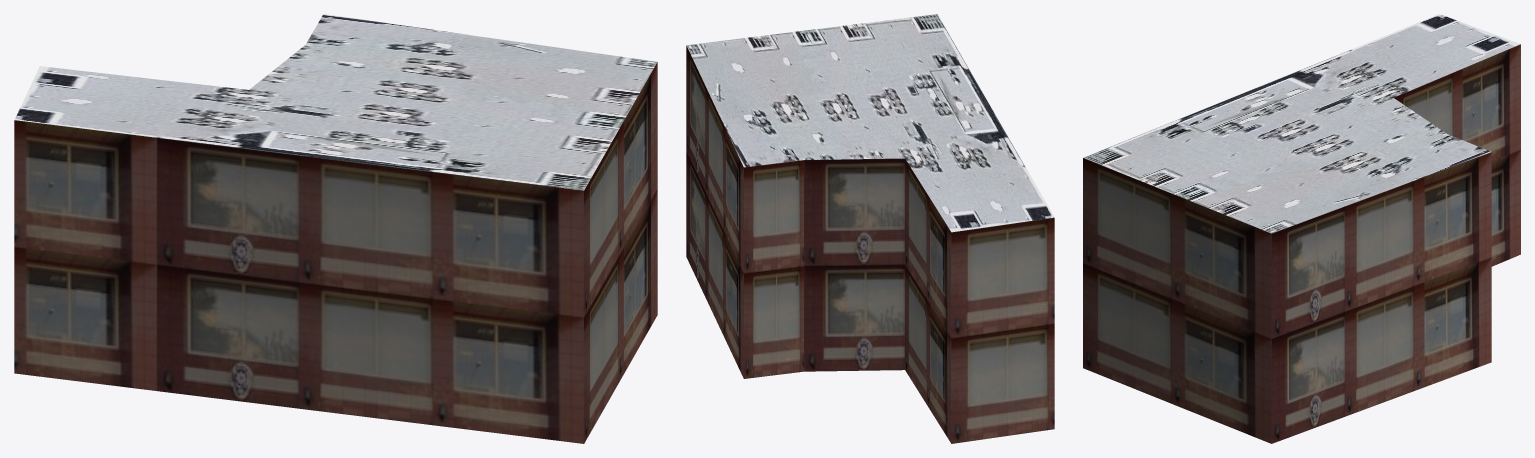
The model's file is ResTex__4140.fbx.
3 renders of one model, left to right at view 1: azimuth 30°, elevation 25°; view 2: azimuth 150°, elevation 25°; view 3: azimuth 270°, elevation 25°, orthographic. The views are drawn at different scales.
Visible parts, largest first — view 1: CityEngineMaterial_13_m, CityEngineMaterial_4_m; view 2: CityEngineMaterial_13_m, CityEngineMaterial_4_m; view 3: CityEngineMaterial_13_m, CityEngineMaterial_4_m.
Boxes of the visible parts, box(x1,y1,x2,y2) form: CityEngineMaterial_13_m: box(14, 62, 657, 443); CityEngineMaterial_4_m: box(14, 14, 657, 190); CityEngineMaterial_13_m: box(686, 46, 1054, 443); CityEngineMaterial_4_m: box(686, 14, 1054, 232); CityEngineMaterial_13_m: box(1083, 44, 1520, 443); CityEngineMaterial_4_m: box(1083, 14, 1520, 233).
Size of the model in its own units: 13.43 by 6 by 11.32.
Materials: 2 (2 with a texture image).
